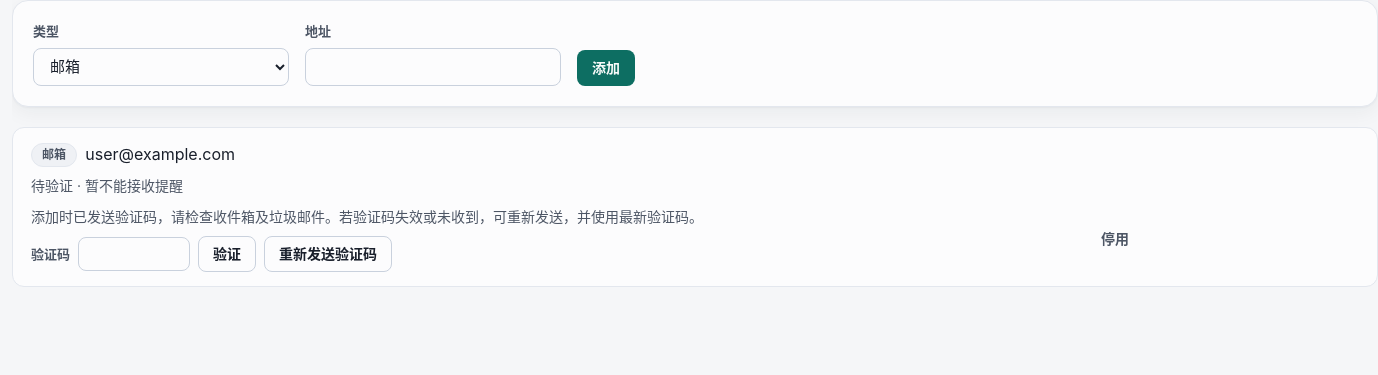
resends verification for an existing channel without duplicating it and starts a countdown
The image size is (1378, 375).
expect the text "邮箱 user@example.com" is shown: met, box 31,143 -> 235,167
Click the button "重新发送验证码". click: (328, 254)
box: 264,236 -> 392,272
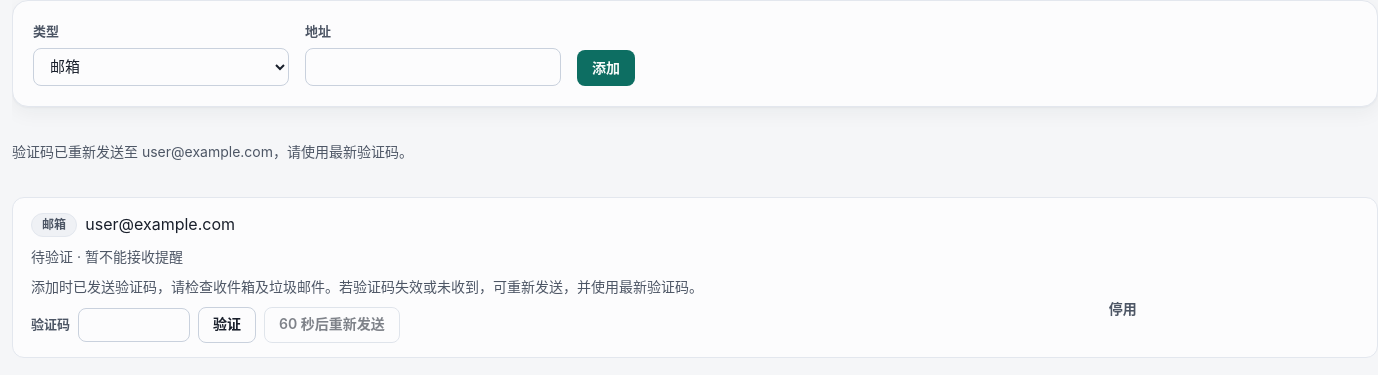
expect the button "60 秒后重新发送" is disabled: met, box 264,307 -> 400,343
expect the message shows "验证码已重新发送": met, box 12,143 -> 413,160
